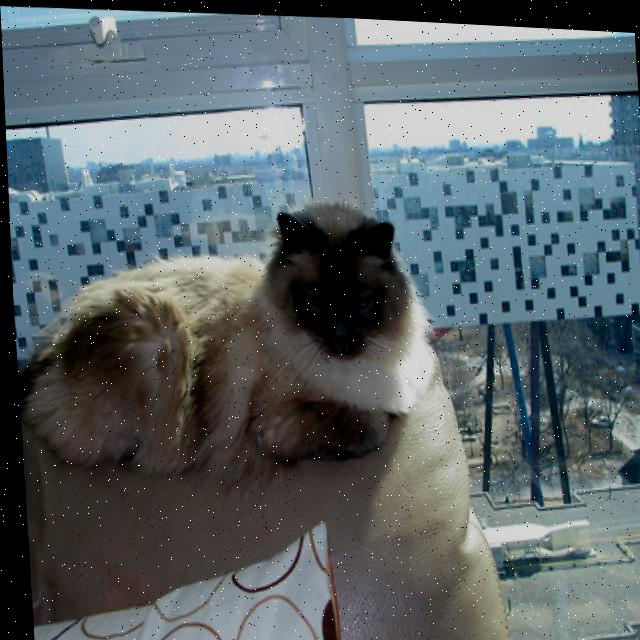Birman: (6, 178, 432, 490)
